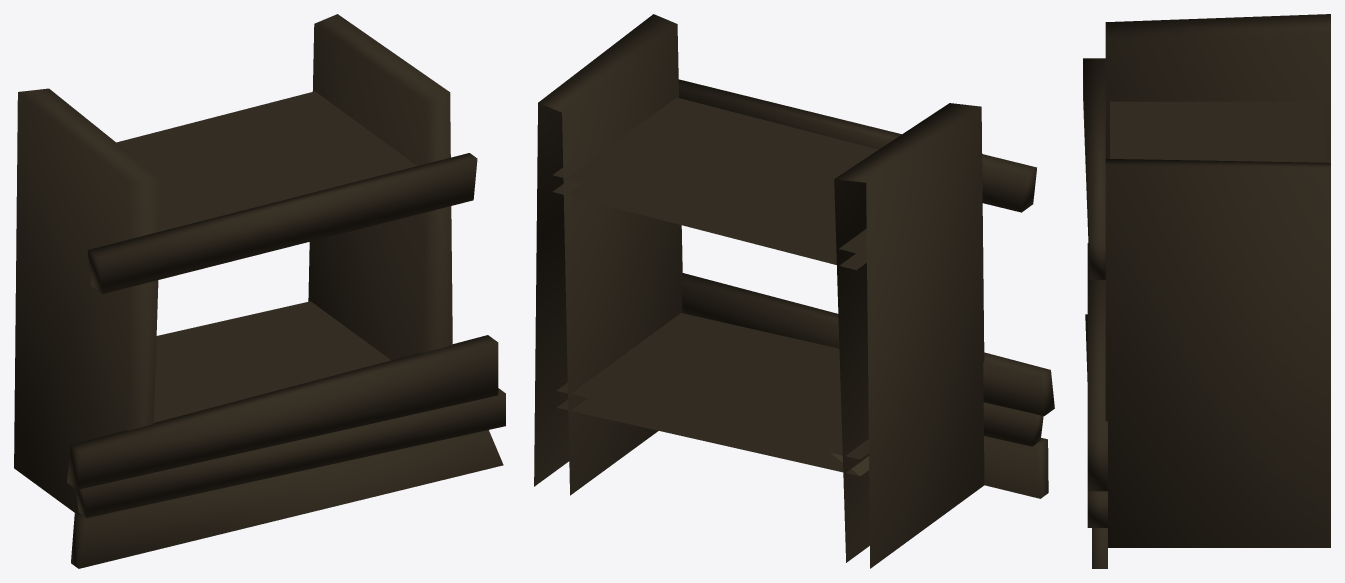
Rendered from OC_SHELF_V2.glb.
3 views of the same model, side by side, from view 1: azimuth 30°, elevation 25°; view 2: azimuth 150°, elevation 25°; view 3: azimuth 270°, elevation 25° (orthographic). The views are drawn at different scales.
Visible parts, largest first — view 1: Mesh; view 2: Mesh; view 3: Mesh.
Part boxes in pixels (box(x1,y1,x2,y2)): Mesh: box(14, 14, 505, 568); Mesh: box(534, 14, 1054, 568); Mesh: box(1083, 14, 1330, 568).
Bounding box in the file's own units: 2.2 × 1.86 × 1.1.
Materials: 1 (1 with a texture image).
